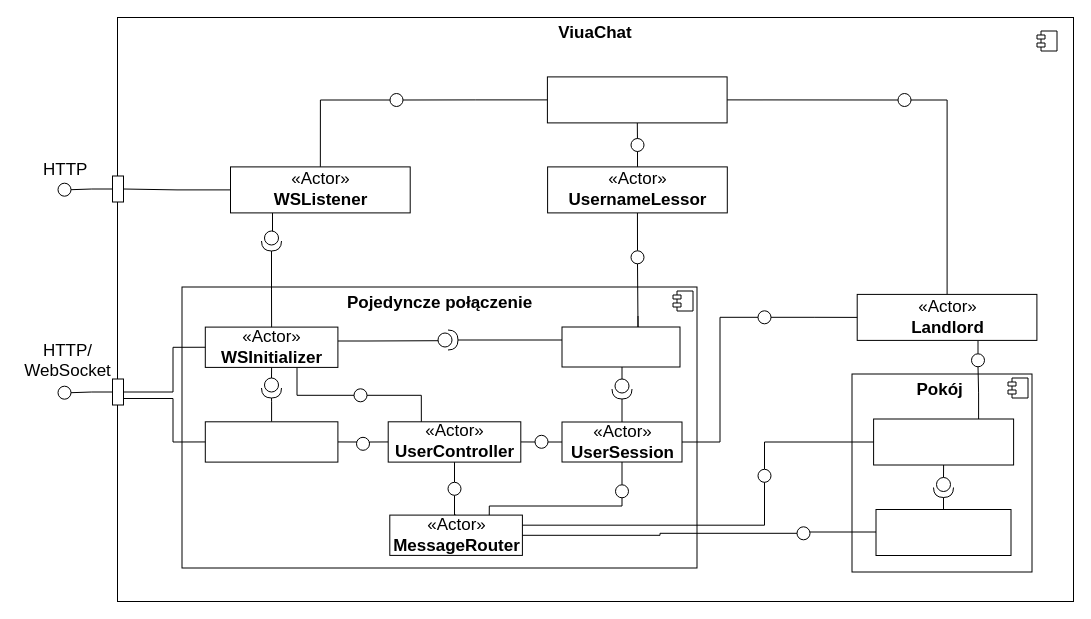
Image size: 1091x619. Some labels were removed from this diagram. Each missing label, with the centre of its shape:
"«Actor» Architect" belongs at point 636,99.
"«Actor» Authorizer" belongs at point 620,346.
"«Actor» MessageBuffer" belongs at point 943,532.
"«Actor» Room" belongs at point 943,441.
"«Actor» WSConnector" belongs at point 271,441.
